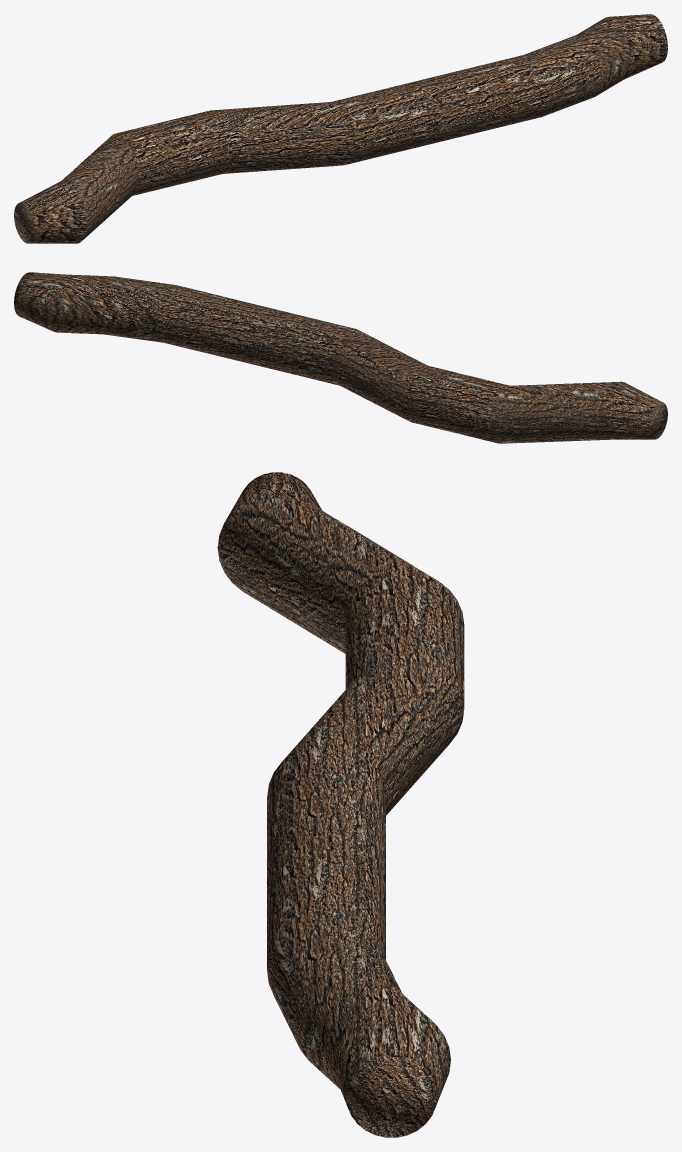
The model's file is stick.fbx.
3 renders of one model, top to bottom at view 1: azimuth 30°, elevation 25°; view 2: azimuth 150°, elevation 25°; view 3: azimuth 270°, elevation 25°, orthographic. The views are drawn at different scales.
Parts seen in each view (by area): view 1: Cylinder; view 2: Cylinder; view 3: Cylinder.
Boxes of the visible parts, bbox=[...] form: Cylinder: bbox=[14, 14, 667, 243]; Cylinder: bbox=[14, 272, 667, 443]; Cylinder: bbox=[217, 472, 464, 1137].
Size of the model in its own units: 70.93 by 5.99 by 12.54.
Materials: 1 (1 with a texture image).
